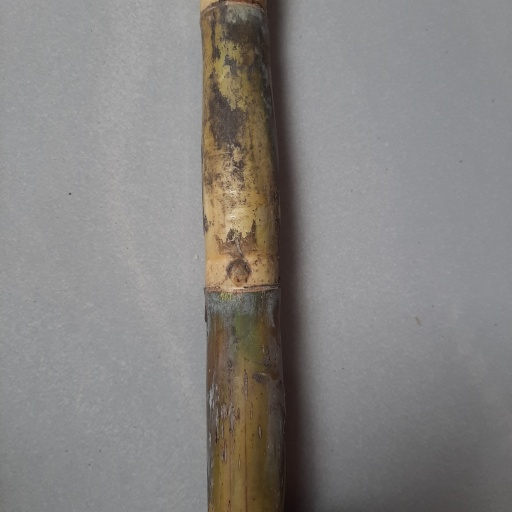Bud: (227, 259, 252, 287)
